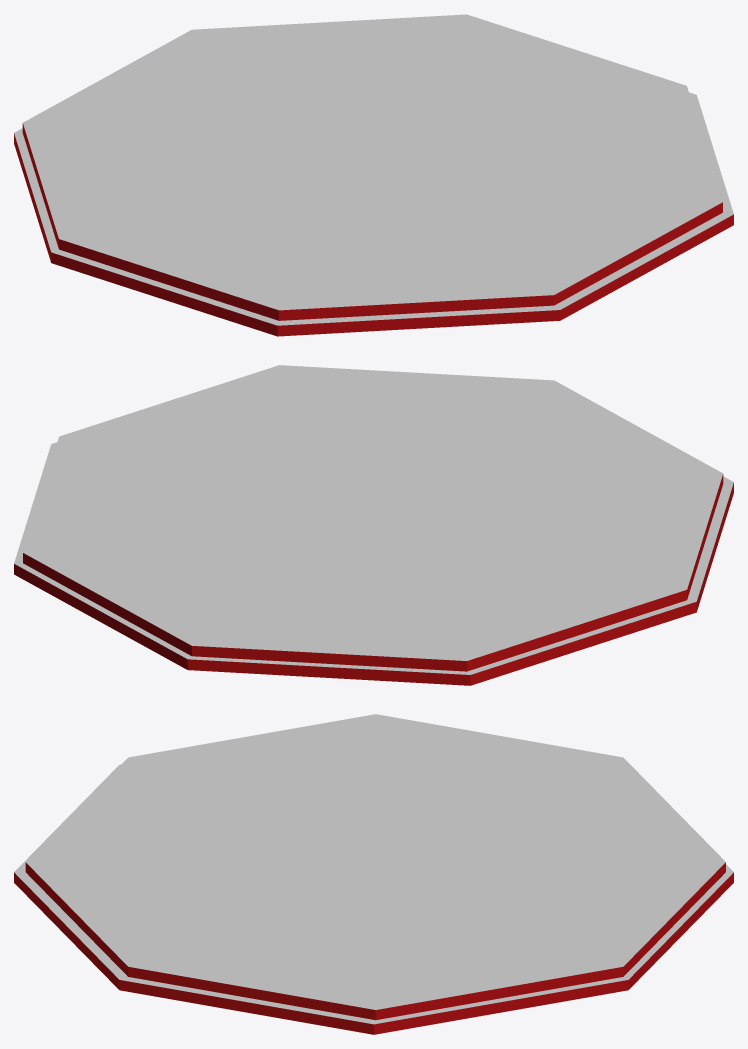
Rendered from k_platform.obj.
3 renders of one model, top to bottom at view 1: azimuth 30°, elevation 25°; view 2: azimuth 150°, elevation 25°; view 3: azimuth 270°, elevation 25°, orthographic. The views are drawn at different scales.
Visible parts, largest first — view 1: Circle.023_plat_red, Circle.023_m_red; view 2: Circle.023_plat_red, Circle.023_m_red; view 3: Circle.023_plat_red, Circle.023_m_red.
Boxes of the visible parts, left/top/right/bottom form: Circle.023_plat_red: left=14, top=14, right=733, bottom=325; Circle.023_m_red: left=14, top=123, right=733, bottom=336; Circle.023_plat_red: left=14, top=365, right=733, bottom=674; Circle.023_m_red: left=14, top=474, right=733, bottom=685; Circle.023_plat_red: left=14, top=714, right=733, bottom=1024; Circle.023_m_red: left=14, top=862, right=733, bottom=1034.
Size of the model in its own units: 37.56 by 1.18 by 37.56.
